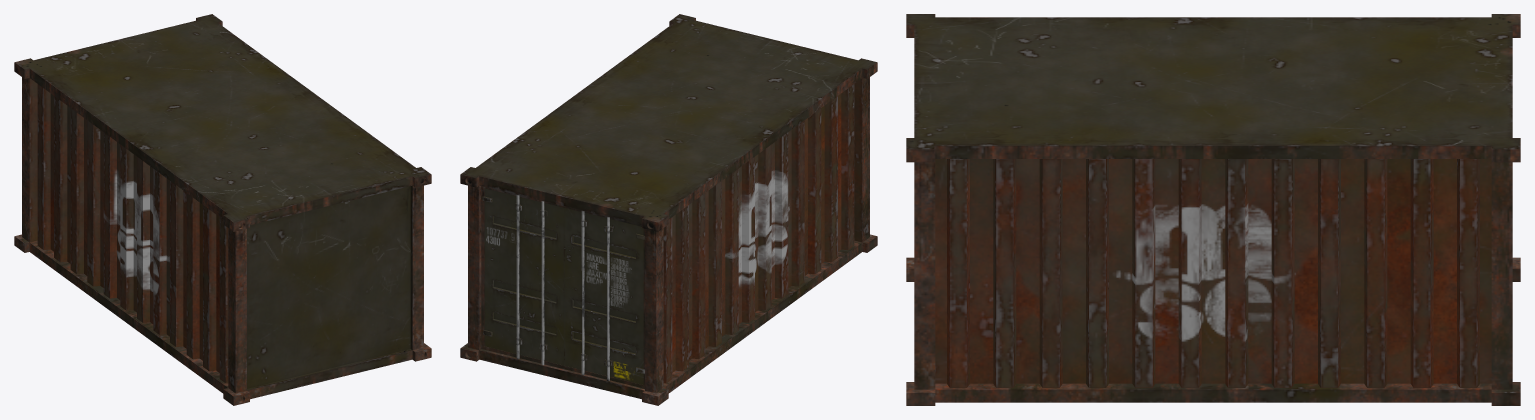
File: container_rust.glb
The picture shows the model from 3 angles, left to right: view 1: azimuth 30°, elevation 25°; view 2: azimuth 150°, elevation 25°; view 3: azimuth 270°, elevation 25°; orthographic projection. The views are drawn at different scales.
Visible parts, largest first — view 1: doors.001_front doors_0; view 2: doors.001_front doors_0; view 3: doors.001_front doors_0.
Part boxes in pixels (x1=…): doors.001_front doors_0: x1=14, y1=14, x2=431, y2=405; doors.001_front doors_0: x1=460, y1=14, x2=877, y2=405; doors.001_front doors_0: x1=906, y1=14, x2=1520, y2=405.
Bounding box in the file's own units: 3.16 × 2.8 × 6.06.
3 materials, 3 textured.
